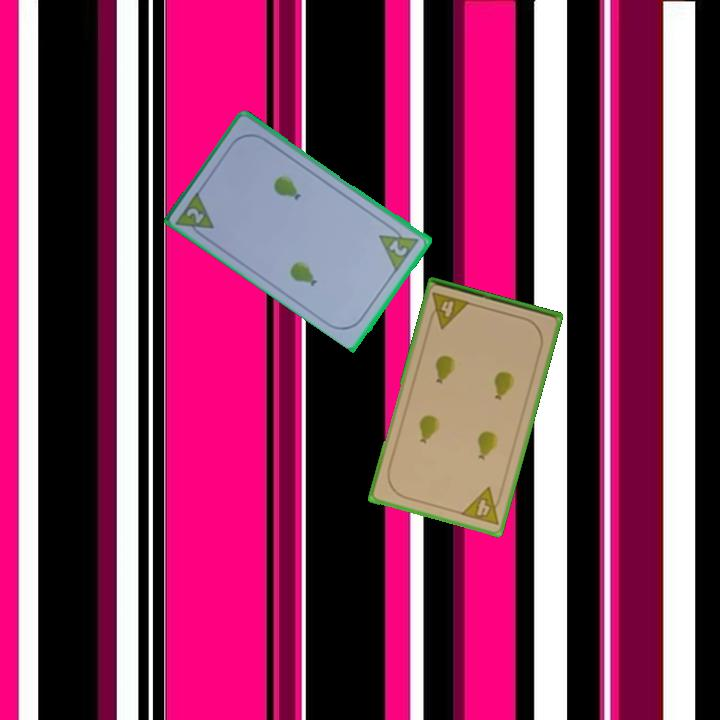2p: (173, 187, 218, 243), (376, 220, 423, 273)
4p: (457, 484, 506, 528), (425, 289, 473, 332)
